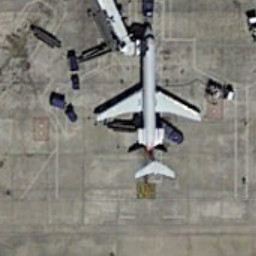Airplane: (93, 15, 205, 188)
